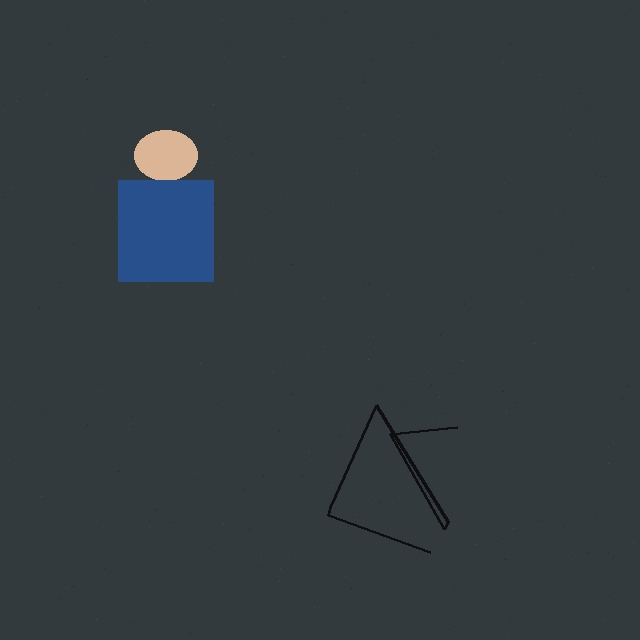crocodile_crack: (319, 368, 473, 564)
person: (71, 130, 261, 281)
